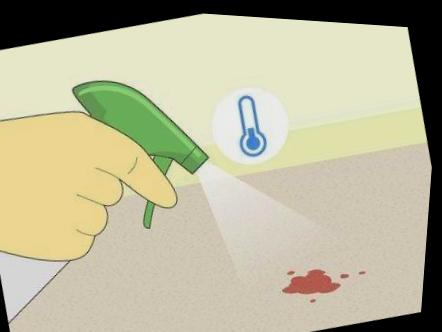Fire: (286, 263, 346, 289)
